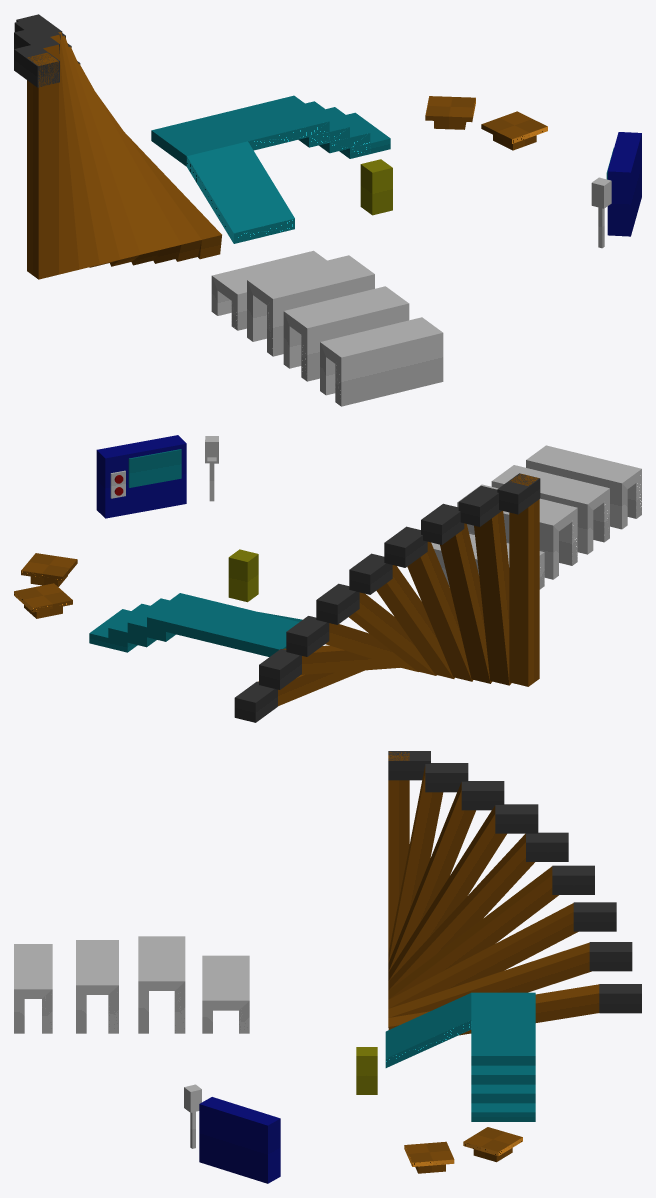
File: test_map.glb
3 views of the same model, one above another, from view 1: azimuth 30°, elevation 25°; view 2: azimuth 150°, elevation 25°; view 3: azimuth 270°, elevation 25° (orthographic). The views are drawn at different scales.
Parts seen in each view (by area): view 1: Steps, TunnelC, Ramp.008, TunnelB, TunnelA, MachineBody, Ramp.004, Ramp.005, Ramp.003, TunnelD, Ramp.006, Ramp.002 (+9 smaller); view 2: Steps, Ramp.008, Ramp.007, MachineBody, TunnelC, Ramp.006, TunnelA, Ramp.005, Ramp.004, TunnelB, Ramp.003, Ramp.001 (+17 smaller); view 3: Steps, MachineBody, Ramp.002, Ramp.003, Ramp.001, Ramp.004, Ramp.005, TunnelB, Ramp.006, TunnelA, TunnelD, Ramp.007 (+16 smaller).
Part boxes in pixels (x1,y1,x2,y2): Steps: [151, 95, 390, 243]; TunnelC: [320, 317, 443, 406]; Ramp.008: [27, 52, 58, 279]; TunnelB: [247, 255, 374, 356]; TunnelA: [283, 286, 409, 381]; MachineBody: [607, 132, 641, 236]; Ramp.004: [62, 36, 140, 266]; Ramp.005: [58, 32, 119, 267]; Ramp.003: [69, 46, 160, 265]; TunnelD: [211, 250, 326, 330]; Ramp.006: [50, 34, 99, 269]; Ramp.002: [78, 63, 181, 263]; Steps: [89, 593, 302, 656]; Ramp.008: [509, 473, 539, 686]; Ramp.007: [474, 510, 511, 685]; MachineBody: [96, 435, 186, 518]; TunnelC: [526, 445, 641, 529]; Ramp.006: [440, 523, 492, 683]; TunnelA: [491, 465, 609, 554]; Ramp.005: [407, 541, 473, 681]; Ramp.004: [376, 565, 454, 678]; TunnelB: [457, 484, 577, 579]; Ramp.003: [349, 592, 436, 675]; Ramp.001: [283, 645, 399, 674]; Steps: [385, 992, 535, 1121]; MachineBody: [199, 1097, 280, 1183]; Ramp.002: [388, 903, 578, 1008]; Ramp.003: [388, 866, 558, 999]; Ramp.001: [388, 942, 591, 1017]; Ramp.004: [388, 833, 534, 990]; Ramp.005: [388, 805, 506, 981]; TunnelB: [138, 936, 185, 1033]; Ramp.006: [388, 782, 475, 971]; TunnelA: [76, 940, 118, 1033]; TunnelD: [202, 955, 249, 1033]; Ramp.007: [388, 766, 443, 962].
Size of what is drawn, in the model's own units: 26.38 by 10.98 by 29.33.
Materials: 7 (7 with a texture image).
